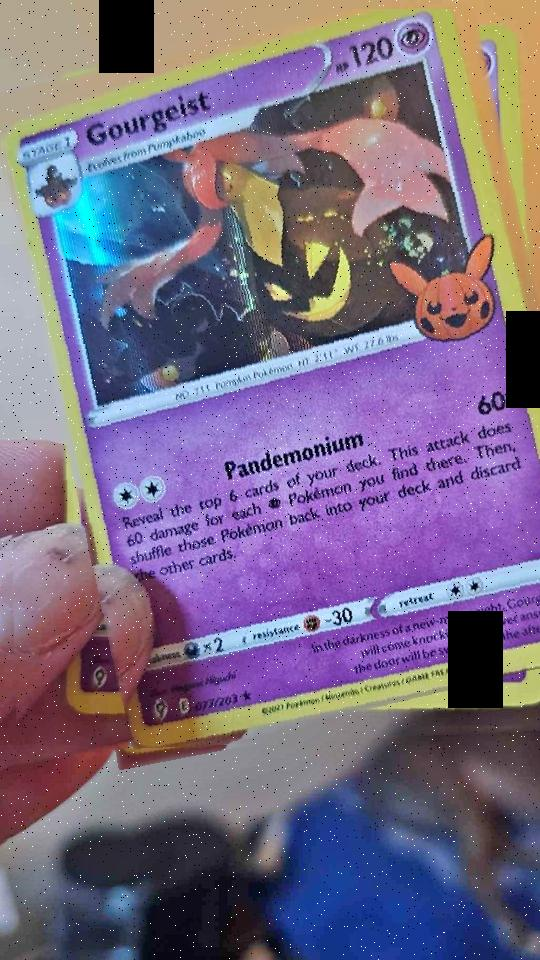card: (3, 9, 540, 749)
